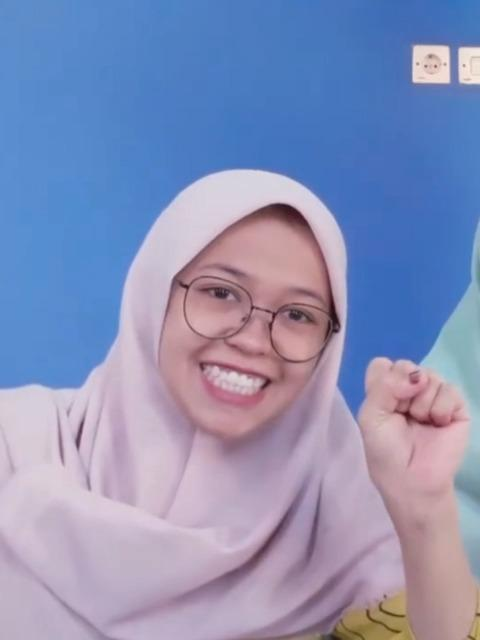S: (354, 347, 478, 498)
